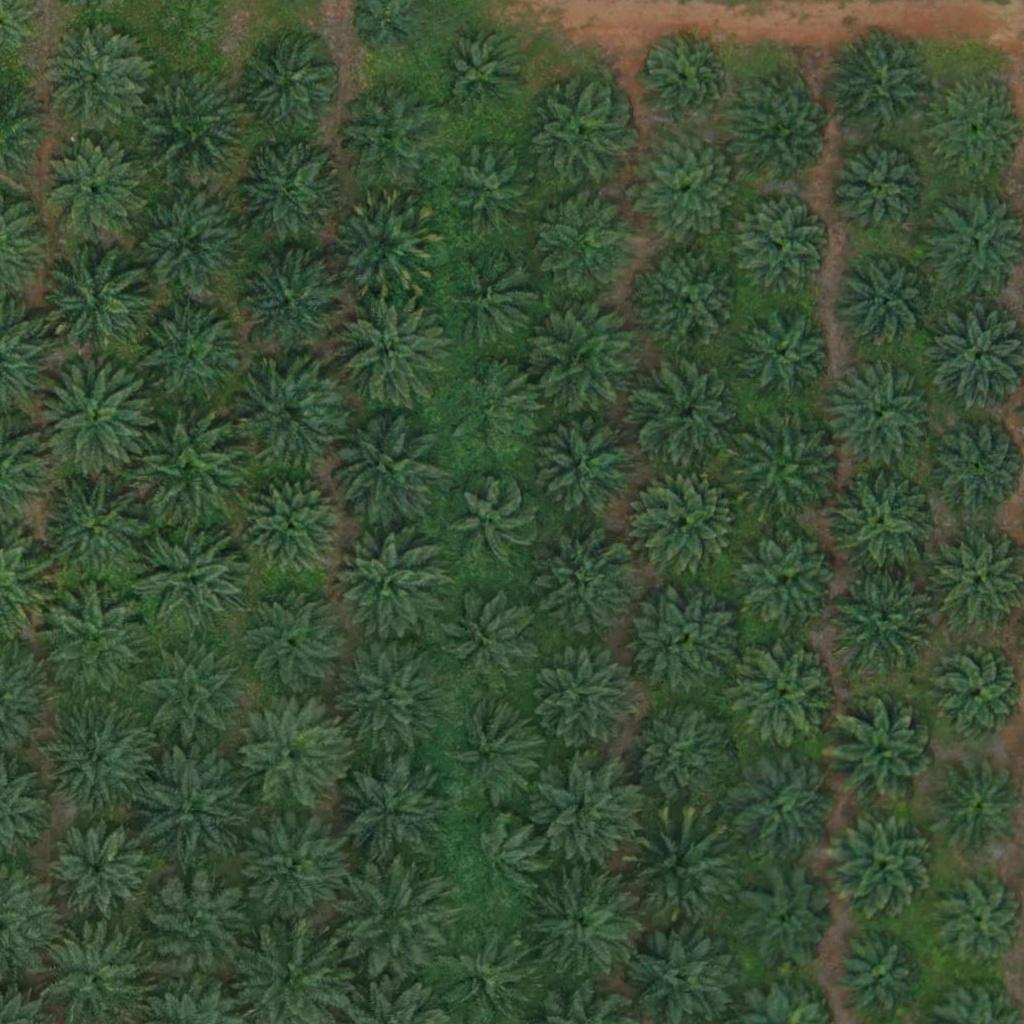Kelapa_Sawit: (40, 585, 153, 699), (631, 133, 744, 247), (635, 245, 748, 359), (732, 409, 845, 523), (824, 466, 937, 580), (832, 565, 945, 679), (235, 811, 348, 925), (133, 640, 246, 754), (135, 750, 248, 864), (43, 705, 156, 819), (329, 189, 442, 302), (232, 30, 345, 143), (37, 363, 150, 476), (39, 472, 152, 585), (333, 293, 446, 406), (328, 410, 441, 523), (332, 532, 445, 645), (530, 640, 643, 753), (826, 697, 939, 810), (828, 807, 941, 920), (532, 754, 645, 867), (523, 867, 636, 980), (139, 871, 252, 984), (822, 359, 934, 473), (336, 861, 448, 975), (233, 138, 345, 251), (134, 67, 246, 180), (132, 189, 244, 302), (40, 243, 152, 356), (130, 296, 242, 409), (129, 412, 241, 525), (137, 526, 249, 639), (232, 359, 344, 472), (236, 583, 348, 696), (335, 640, 447, 753), (533, 303, 645, 416), (531, 411, 643, 524), (635, 360, 747, 473), (634, 584, 746, 697), (826, 30, 938, 143), (625, 700, 737, 813), (624, 815, 736, 928), (334, 755, 446, 868), (234, 698, 346, 811), (337, 86, 437, 187), (42, 25, 142, 126), (42, 136, 142, 237), (238, 251, 338, 352), (241, 474, 341, 575), (539, 535, 639, 636), (637, 471, 737, 572), (734, 85, 834, 186), (739, 528, 839, 629), (835, 144, 935, 245), (837, 250, 937, 351), (732, 643, 832, 744), (729, 755, 829, 856), (738, 871, 838, 972), (444, 701, 544, 802), (48, 819, 148, 920), (530, 85, 630, 185), (543, 195, 643, 295), (734, 194, 834, 294), (737, 305, 837, 405), (437, 30, 525, 118), (448, 260, 536, 348), (837, 933, 925, 1021), (453, 818, 541, 906), (453, 150, 540, 238), (452, 364, 539, 452), (447, 478, 534, 566), (448, 594, 535, 682), (638, 33, 725, 121)
